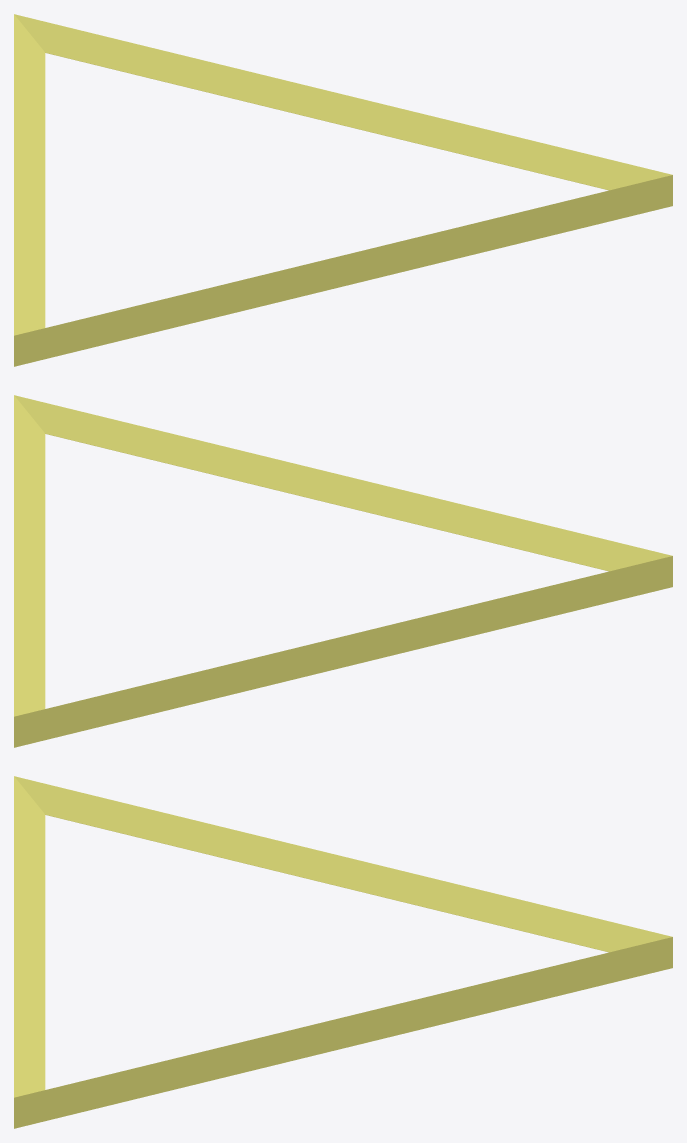
Rendered from triangle.fbx.
The picture shows the model from 3 angles, top to bottom: view 1: azimuth 30°, elevation 25°; view 2: azimuth 150°, elevation 25°; view 3: azimuth 270°, elevation 25°; orthographic projection.
Parts seen in each view (by area): view 1: triangle; view 2: triangle; view 3: triangle.
Boxes of the visible parts, x1,y1,x2,y2 form: triangle: [14, 14, 672, 366]; triangle: [14, 395, 672, 747]; triangle: [14, 776, 672, 1128].
Size of the model in its own units: 2.01 by 0.0907 by 1.74.
